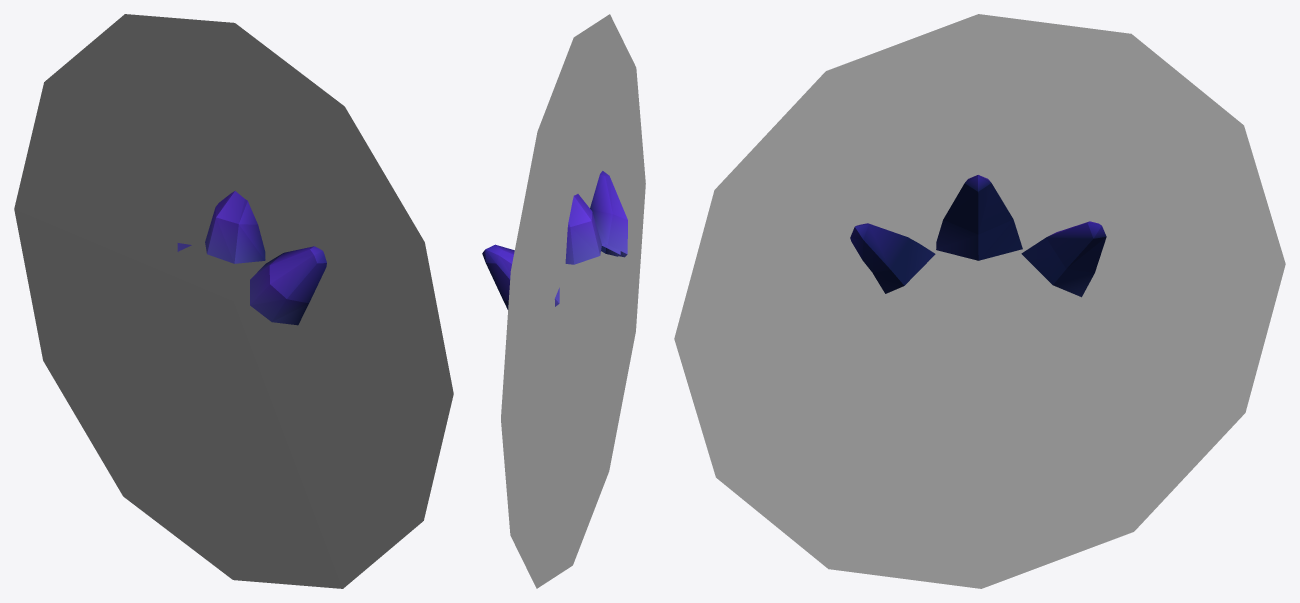
File: pref_fx_Absol_spell01B_buff01_3_lv3.fbx
3 views of the same model, side by side, from view 1: azimuth 30°, elevation 25°; view 2: azimuth 150°, elevation 25°; view 3: azimuth 270°, elevation 25° (orthographic). The views are drawn at different scales.
Visible parts, largest first — view 1: glow_01, 0359_nail_01_zx_B; view 2: glow_01, 0359_nail_01_zx_B; view 3: glow_01, 0359_nail_01_zx_B.
Boxes of the visible parts, bbox=[...] form: glow_01: bbox=[14, 14, 453, 588]; 0359_nail_01_zx_B: bbox=[177, 191, 326, 325]; glow_01: bbox=[501, 14, 645, 588]; 0359_nail_01_zx_B: bbox=[482, 171, 627, 309]; glow_01: bbox=[674, 14, 1285, 588]; 0359_nail_01_zx_B: bbox=[850, 175, 1106, 297].
Size of the model in its own units: 0.1876 by 0.6996 by 0.6739.
